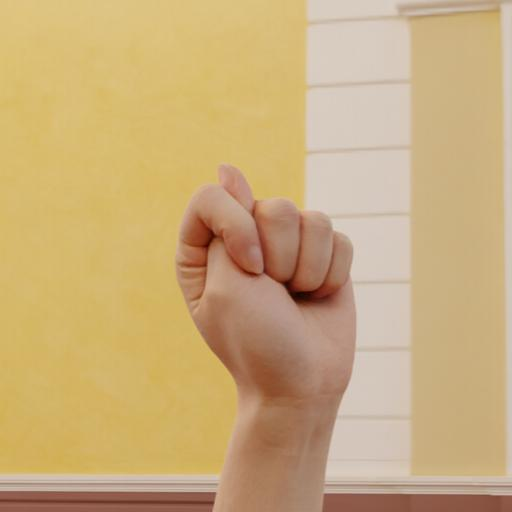T: (132, 140, 446, 459)
